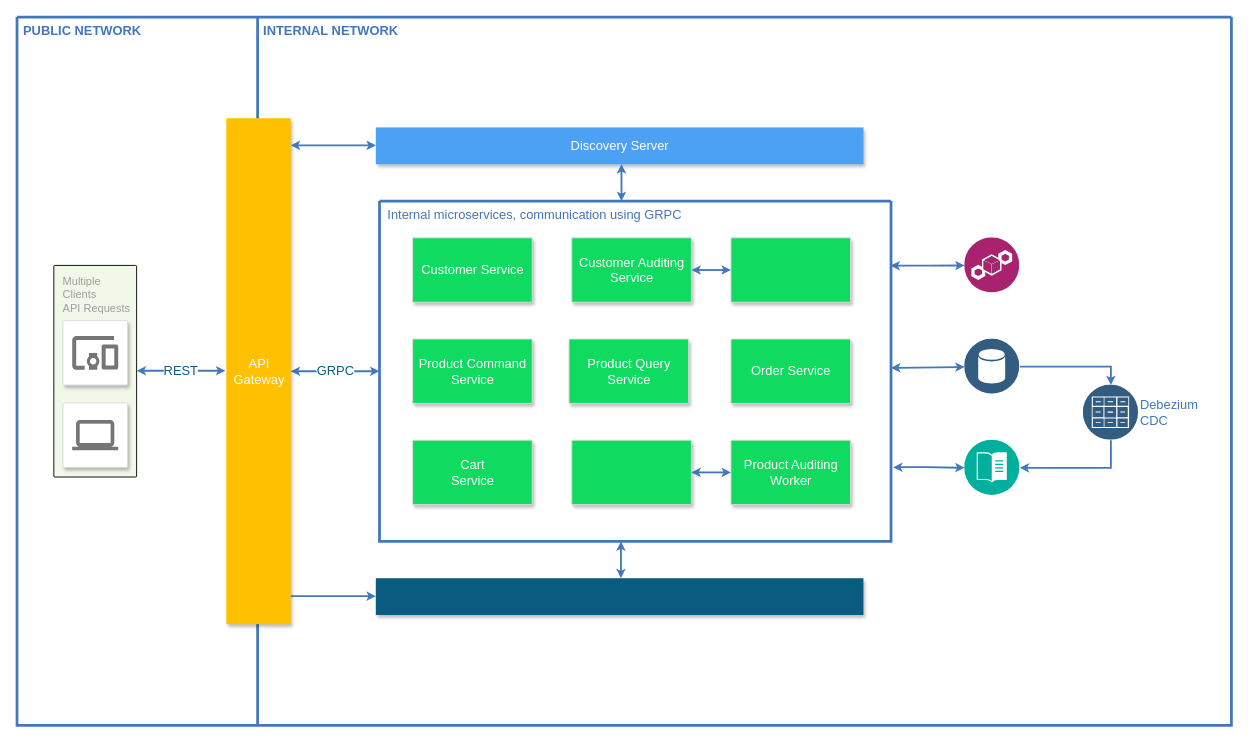
This 1248x742 diagram has some shape labels left out. Each missing label, with the centre of its shape:
"Customer Auditing Worker" belongs at (x=791, y=271).
"Elasticsearch" belongs at (x=991, y=467).
"Kafka Message Broker" belongs at (x=620, y=597).
"MySQL" belongs at (x=991, y=366).
"Product Auditing Service" belongs at (x=632, y=473).
"Redis" belongs at (x=991, y=265).
